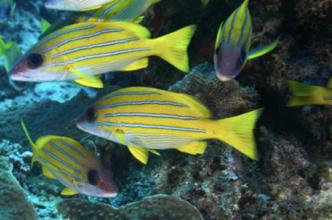Lutjanidae -Snappers-: (70, 80, 269, 163), (2, 16, 198, 90), (16, 117, 120, 200), (210, 0, 266, 92), (39, 0, 195, 12)
